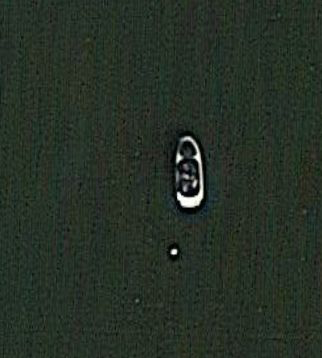boat: (167, 132, 210, 215)
